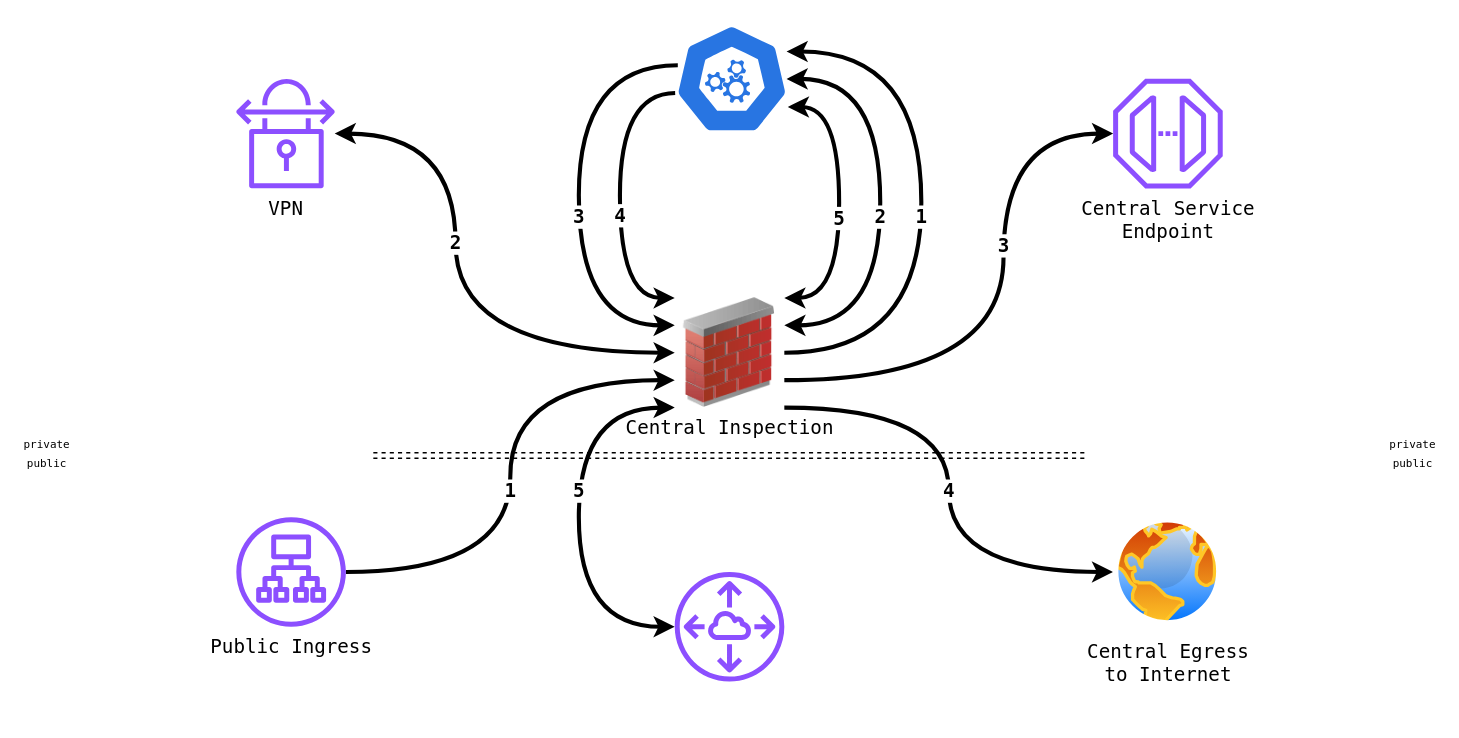
The diagram is 1459 pixels wide and 738 high, and some of its shapes have lost their labels. The shapes that lost their labels are listed below. From the top down, each one's centre as x and y in pixels, then its label:
pixel 731 78: SDLC / Workload n
pixel 729 626: Peer
